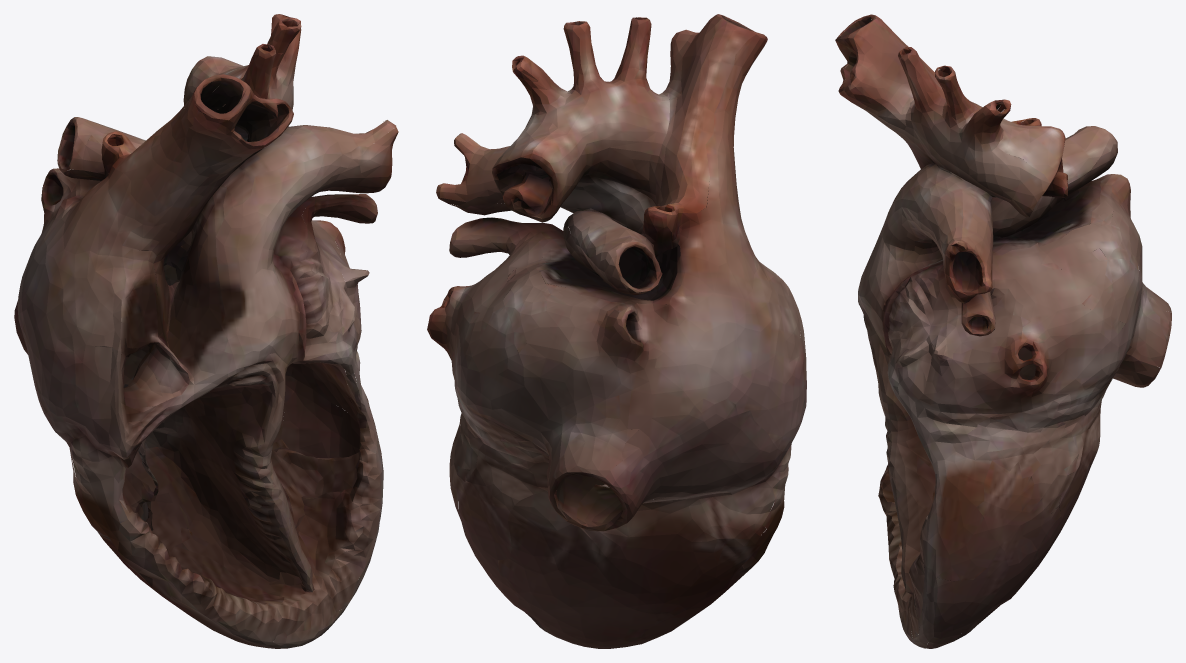
File: heart.glb
3 views of the same model, side by side, from view 1: azimuth 30°, elevation 25°; view 2: azimuth 150°, elevation 25°; view 3: azimuth 270°, elevation 25° (orthographic). The views are drawn at different scales.
Parts seen in each view (by area): view 1: Heart; view 2: Heart; view 3: Heart.
Boxes of the visible parts, bbox=[...] form: Heart: bbox=[14, 14, 398, 648]; Heart: bbox=[427, 14, 806, 648]; Heart: bbox=[835, 14, 1171, 648].
Size of the model in its own units: 0.5834 by 1 by 0.5334.
Materials: 1 (1 with a texture image).
